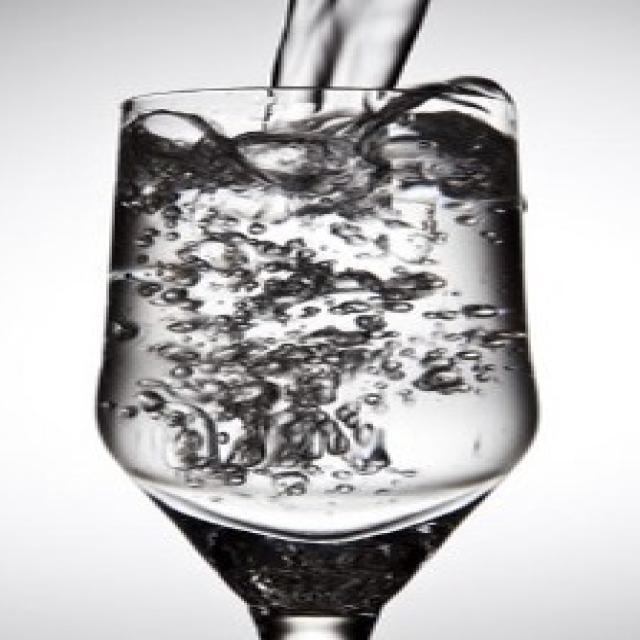electronic: (92, 81, 546, 640)
